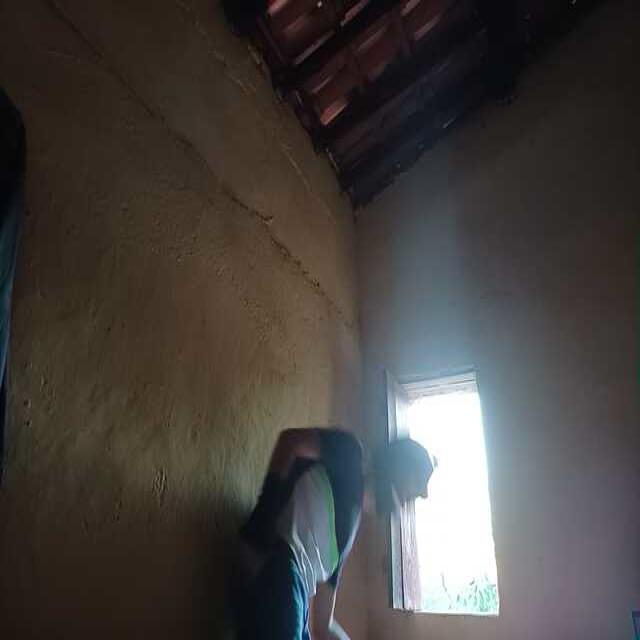capacete: (364, 422, 439, 508)
pessoa: (231, 408, 443, 640)
